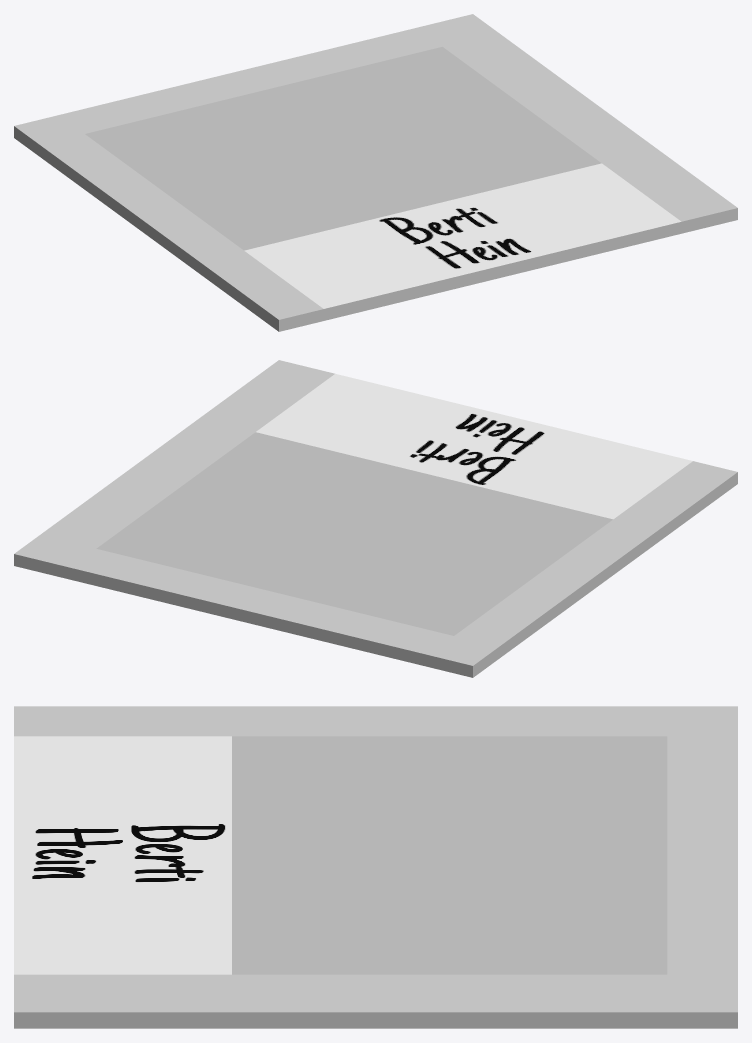
Rendered from Polaroid_Berti.fbx.
The picture shows the model from 3 angles, top to bottom: view 1: azimuth 30°, elevation 25°; view 2: azimuth 150°, elevation 25°; view 3: azimuth 270°, elevation 25°; orthographic projection. The views are drawn at different scales.
Parts seen in each view (by area): view 1: Plane.001; view 2: Plane.001; view 3: Plane.001.
Boxes of the visible parts, x1,y1,x2,y2 form: Plane.001: [14, 14, 737, 331]; Plane.001: [14, 360, 737, 677]; Plane.001: [14, 706, 737, 1028].
Size of the model in its own units: 400 by 10 by 400.
